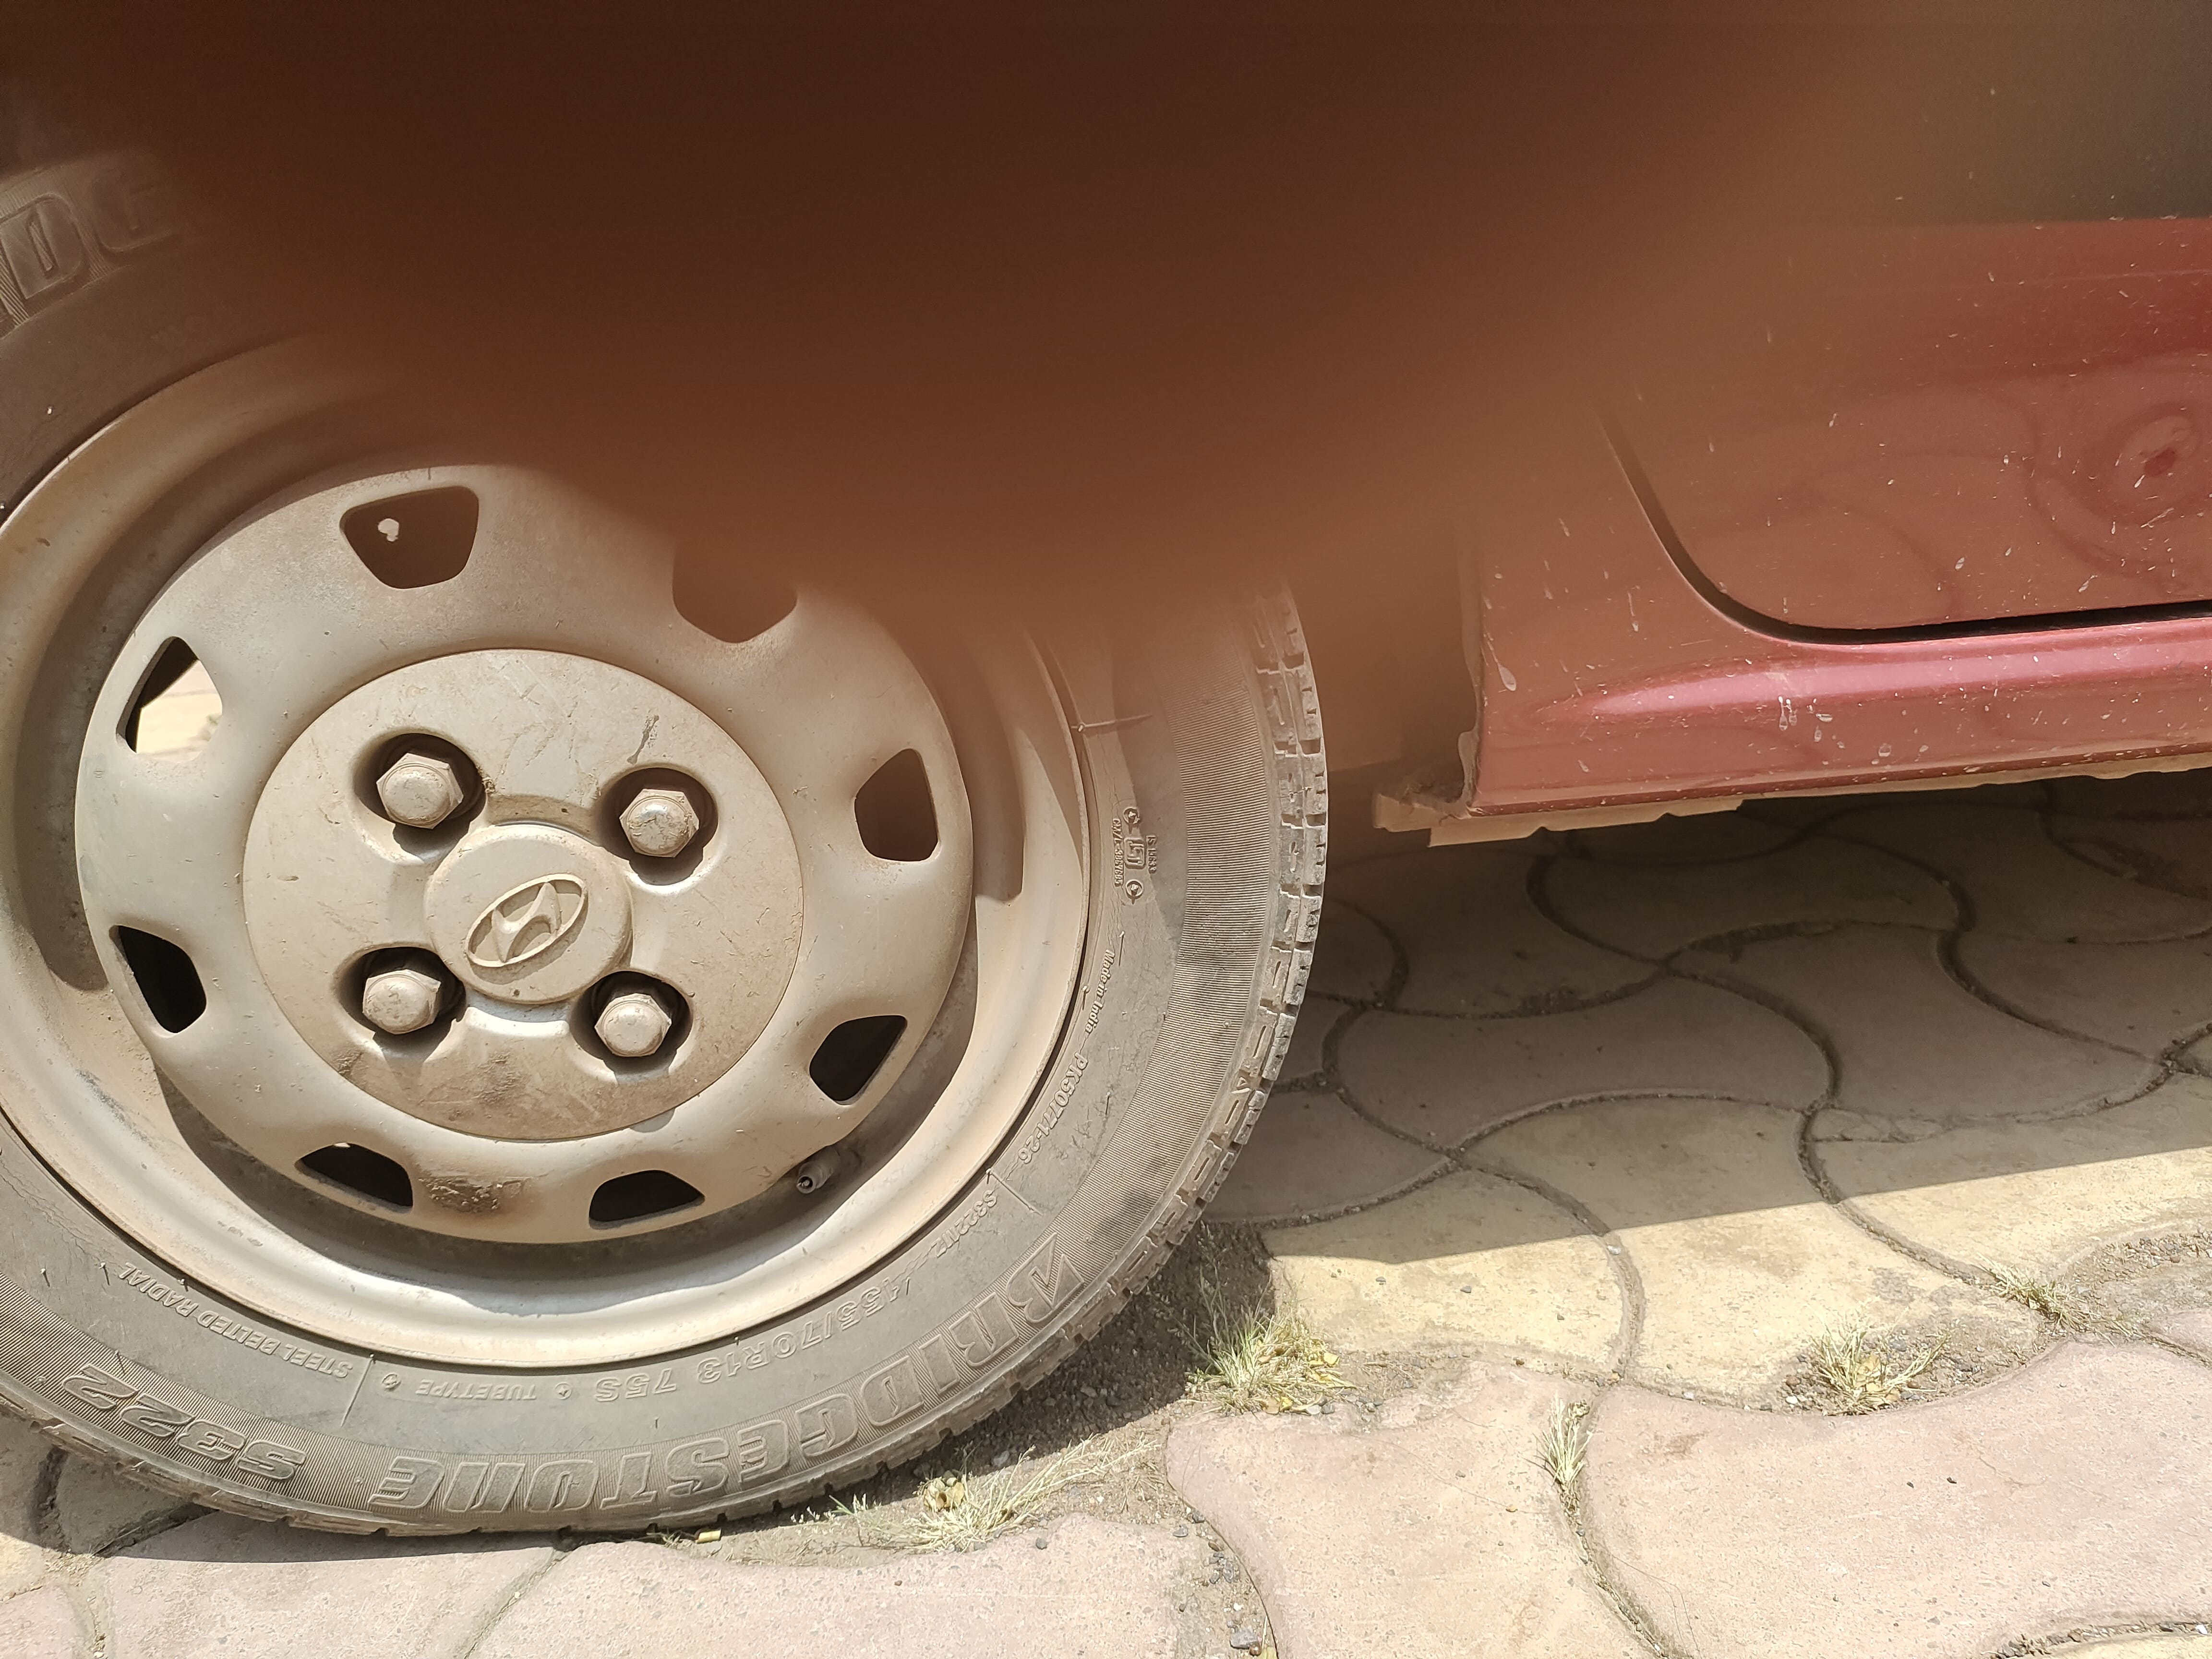l: (563, 964, 691, 1094), (331, 939, 465, 1058), (350, 735, 484, 852), (601, 774, 716, 887)
